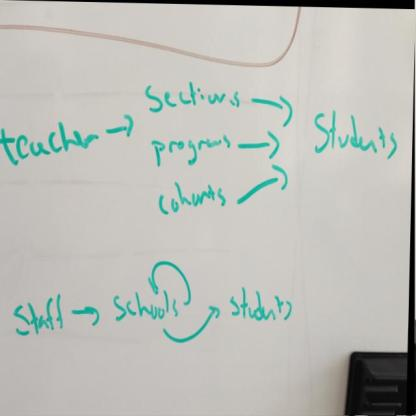Handwritten text: (306, 98, 398, 168), (144, 78, 253, 125), (2, 114, 98, 161), (228, 272, 316, 321), (113, 272, 179, 336), (147, 171, 230, 221), (11, 280, 64, 342), (143, 133, 233, 167)
